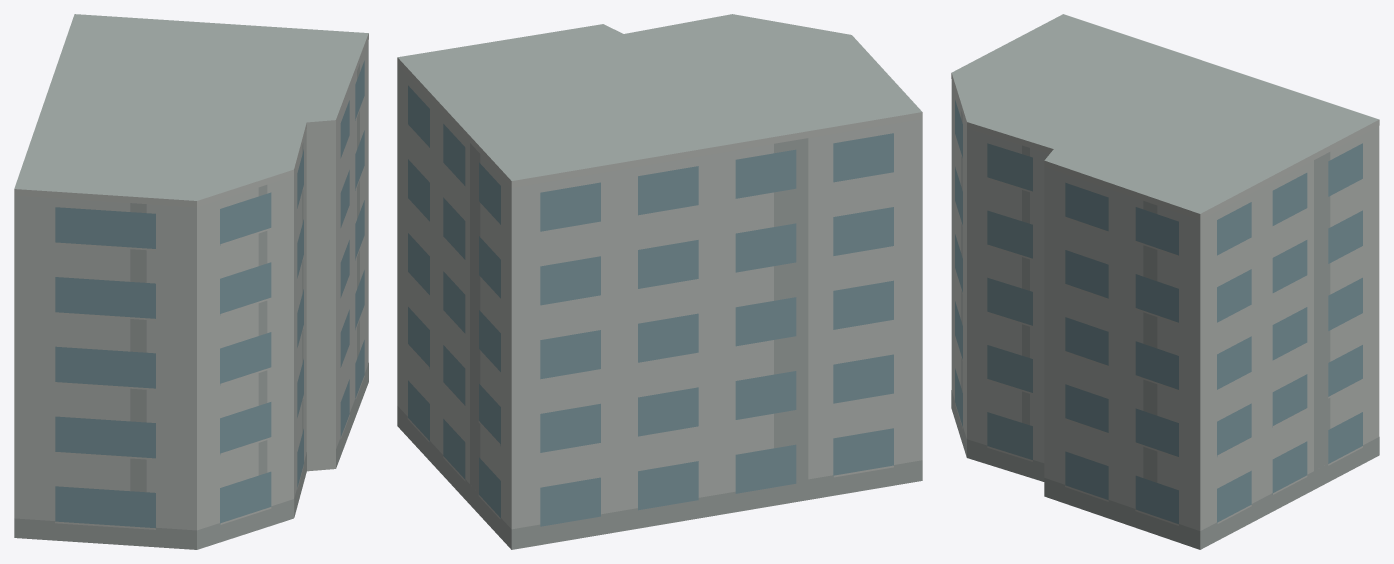
Rendered from survey-upis-32886210.glb.
3 renders of one model, left to right at view 1: azimuth 30°, elevation 25°; view 2: azimuth 150°, elevation 25°; view 3: azimuth 270°, elevation 25°, orthographic. The views are drawn at different scales.
Visible parts, largest first — view 1: survey-upis-32886210.tmp; view 2: survey-upis-32886210.tmp; view 3: survey-upis-32886210.tmp.
Part boxes in pixels (left/top/right/bottom): survey-upis-32886210.tmp: left=14, top=14, right=368, bottom=549; survey-upis-32886210.tmp: left=397, top=14, right=922, bottom=549; survey-upis-32886210.tmp: left=951, top=14, right=1379, bottom=549.
Bounding box in the file's own units: 16.86 × 13.2 × 15.24.
